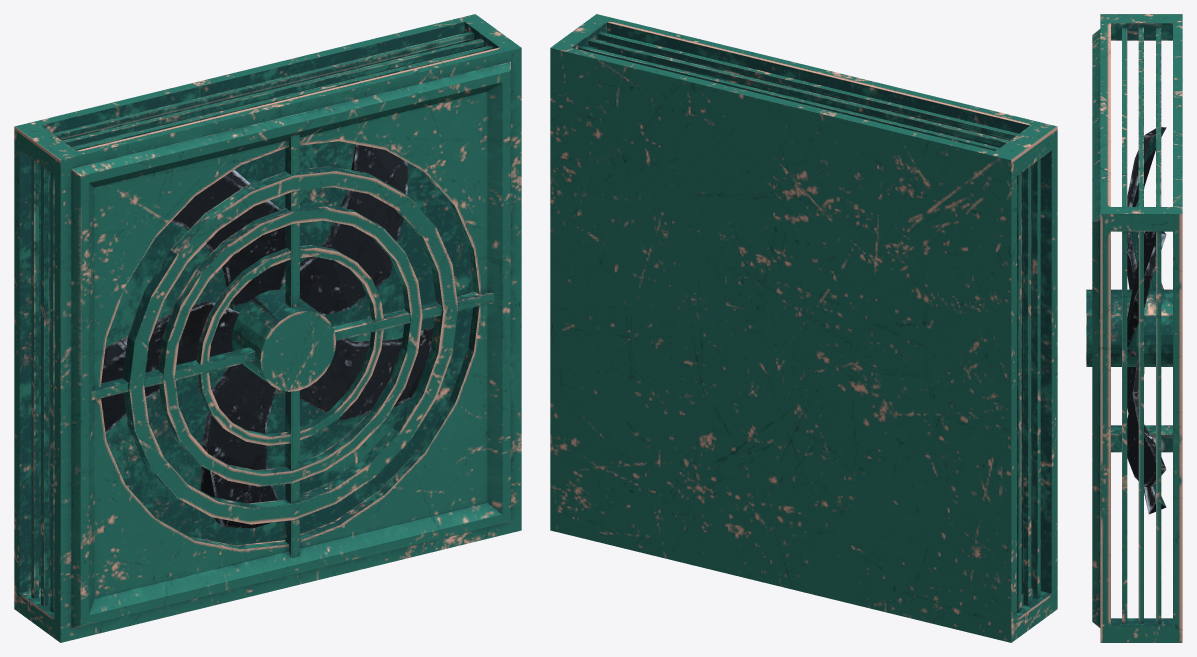
The model's file is FanBlue.gltf.
The picture shows the model from 3 angles, left to right: view 1: azimuth 30°, elevation 25°; view 2: azimuth 150°, elevation 25°; view 3: azimuth 270°, elevation 25°; orthographic projection. The views are drawn at different scales.
Parts seen in each view (by area): view 1: Belki, Ostrza; view 2: Belki; view 3: Belki, Ostrza.
Part boxes in pixels (x1,y1,x2,y2): Belki: (14,14,521,642); Ostrza: (101,144,433,528); Belki: (550,14,1057,642); Belki: (1086,14,1182,642); Ostrza: (1127,127,1166,514).
Size of the model in its own units: 2 by 2 by 0.4069.
1 material, 1 textured.
